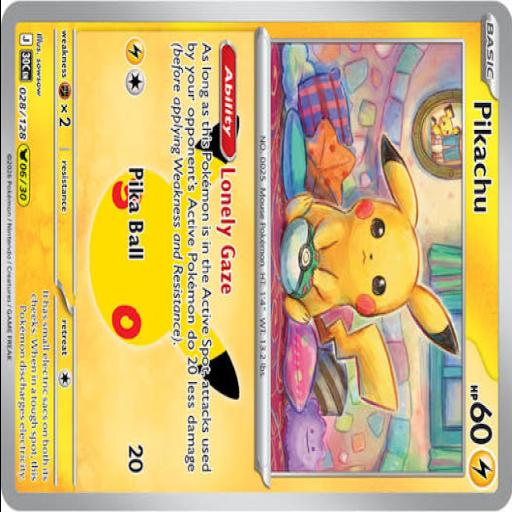Pikachu: (283, 134, 457, 411)
